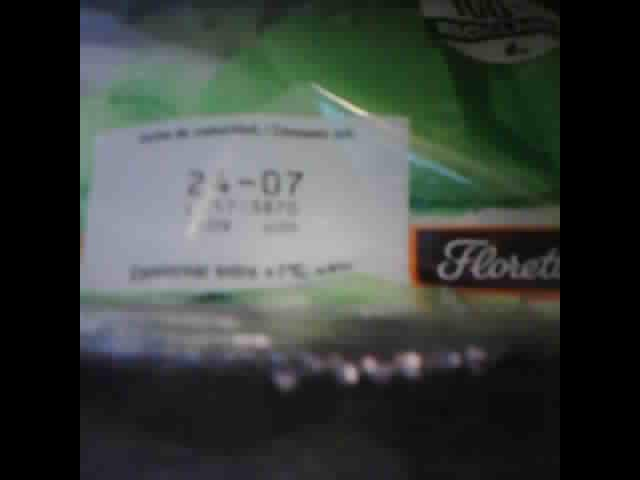florette: (82, 4, 558, 384)
